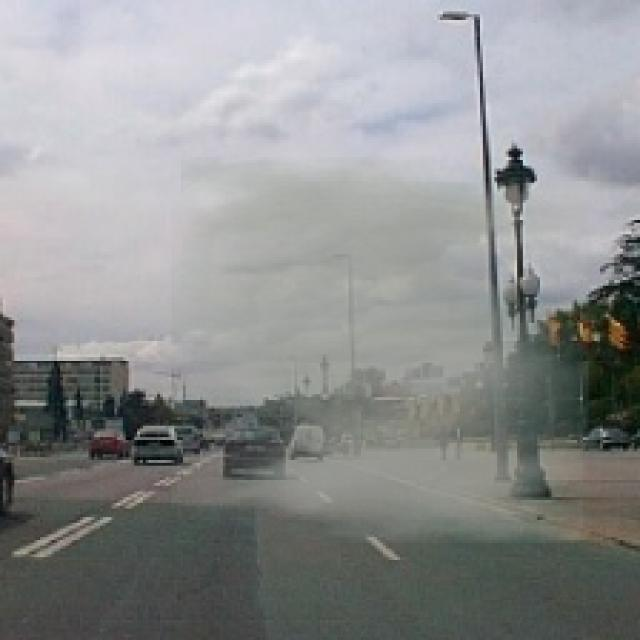Smoke: (172, 154, 588, 543)
